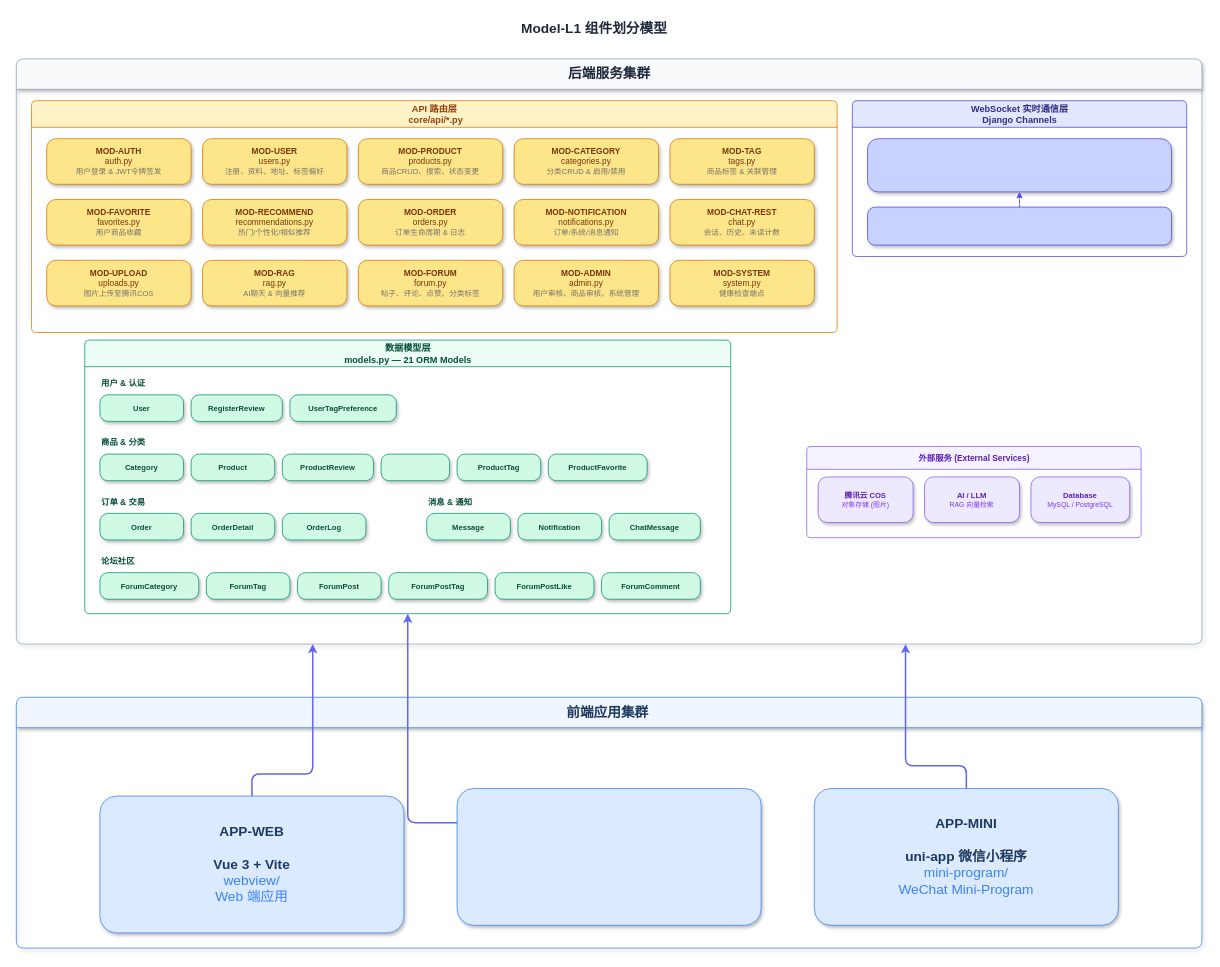
This 1220x967 diagram has some shape labels left out. Here are the shapes that lost their labels. From the top down, the centre of each, then its label:
At point (1020, 166): "MOD-CHAT-WS consumers.py AsyncWebsocketConsumer 实时聊天消息处理".
At point (1020, 226): "routing.py /ws/chat/ → ChatConsumer".
At point (415, 468): "Tag".
At point (609, 858): "APP-MOBILE Flutter mobile/ iOS & Android 移动端".
